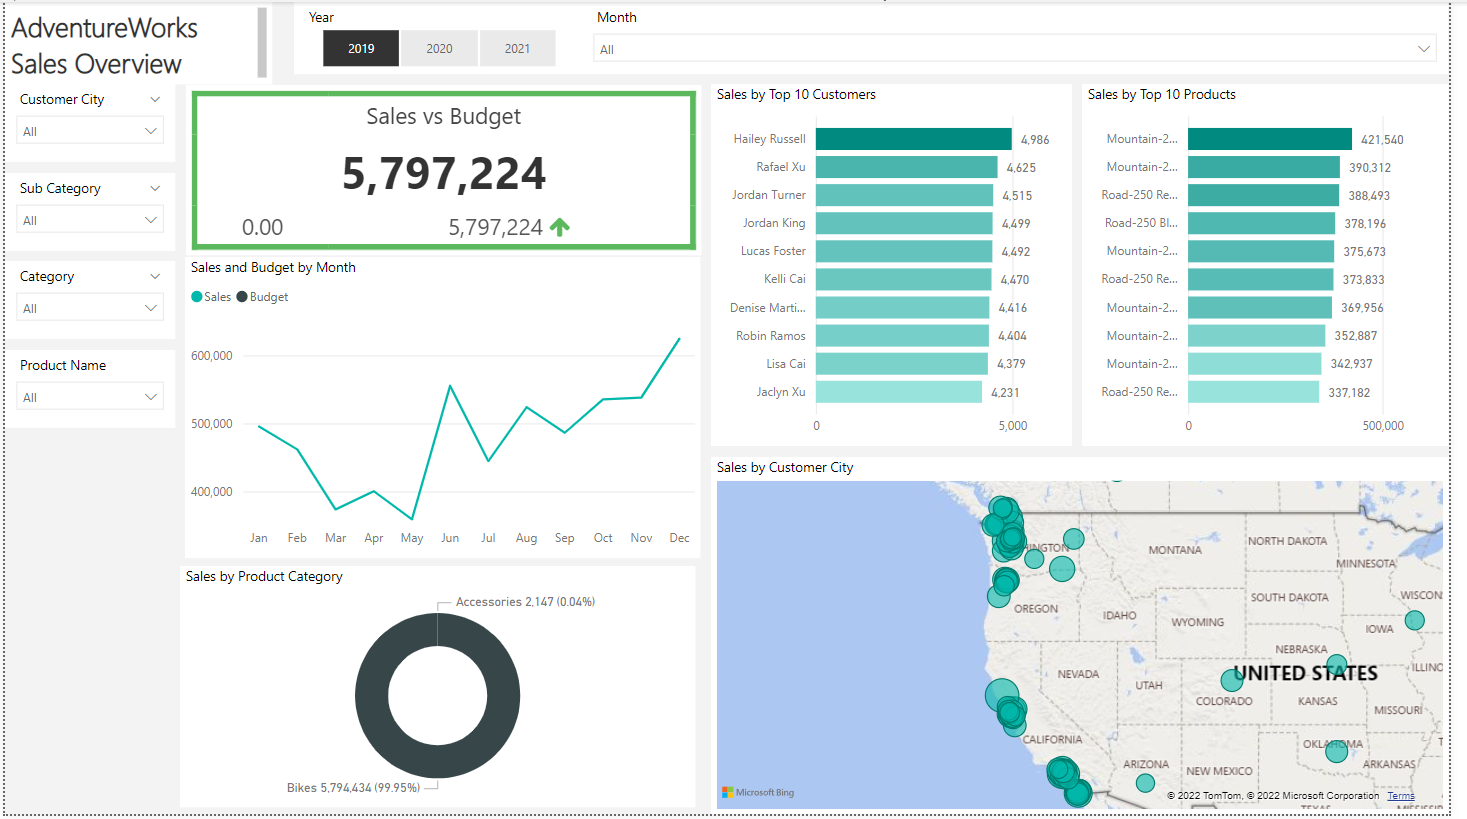

This screenshot's page, from the dashboard's own definition file:
{"tool":"powerbi","page":{"name":"Sales Overview","canvas":[1280,720],"ordinal":0},"visuals":[{"type":"textbox","box":[0,0,236.7,72.7],"z":0},{"type":"slicer","fields":{"Values":["DIM_Calendar.Year"]},"box":[256,0,256,64],"z":1000},{"type":"slicer","fields":{"Values":["DIM_Calendar.MonthShort"]},"box":[512,0,768,64],"z":2000},{"type":"slicer","fields":{"Values":["DIM_Customers.Customer City"]},"box":[0,73,150.5,69.3],"z":3000},{"type":"slicer","fields":{"Values":["DIM_Products.Product Category"]},"box":[0,229.9,150.5,69.3],"z":4000},{"type":"slicer","fields":{"Values":["DIM_Products.Product Name"]},"box":[0,308.4,150.5,69.3],"z":5000},{"type":"slicer","fields":{"Values":["DIM_Products.Sub Category"]},"box":[0,151.4,150.5,69.3],"z":6000},{"type":"barChart","title":"Sales by Top 10 Products","fields":{"Category":["DIM_Products.Product Name"],"Y":["Analysis Metrics.Sales"]},"box":[955.2,73,324.8,321.1],"z":7000},{"type":"lineChart","fields":{"Category":["DIM_Calendar.MonthShort"],"Y":["Analysis Metrics.Sales","Analysis Metrics.Budget"]},"box":[159.6,226.1,456.7,266.9],"z":8000},{"type":"barChart","title":"Sales by Top 10 Customers","fields":{"Category":["DIM_Customers.Full Name"],"Y":["Analysis Metrics.Sales"]},"box":[625.9,73,320.2,321.1],"z":9000},{"type":"donutChart","fields":{"Y":["Analysis Metrics.Sales"],"Series":["DIM_Products.Product Category"]},"box":[155.2,500.1,456.7,213.7],"z":10000},{"type":"map","fields":{"Category":["DIM_Customers.Customer City"],"Size":["Analysis Metrics.Sales"]},"box":[626,403.4,654.4,316.6],"z":12000},{"type":"BBED0A4D4D8D44CE93CF2DAFADEE466C","fields":{"actual":["Analysis Metrics.Sales"],"target2":["Analysis Metrics.Sales / Budget"],"target1":["Analysis Metrics.Budget"]},"box":[160.5,73.4,456.6,151.3],"z":13001}]}

Visuals, with their boxes in screenshot pixels (x1, y1, x2, y2), scaled from the page's 1280x720 canvas onto the 1467x819 screenshot:
textbox: box=[0, 0, 271, 83]
slicer - DIM_Calendar.Year: box=[293, 0, 587, 73]
slicer - DIM_Calendar.MonthShort: box=[587, 0, 1466, 73]
slicer - DIM_Customers.Customer City: box=[0, 83, 172, 162]
slicer - DIM_Products.Product Category: box=[0, 262, 172, 340]
slicer - DIM_Products.Product Name: box=[0, 351, 172, 430]
slicer - DIM_Products.Sub Category: box=[0, 172, 172, 251]
"Sales by Top 10 Products" barChart: box=[1095, 83, 1466, 448]
lineChart - DIM_Calendar.MonthShort x Analysis Metrics.Sales: box=[183, 257, 706, 561]
"Sales by Top 10 Customers" barChart: box=[717, 83, 1084, 448]
donutChart - Analysis Metrics.Sales x DIM_Products.Product Category: box=[178, 569, 701, 812]
map - DIM_Customers.Customer City x Analysis Metrics.Sales: box=[717, 459, 1466, 818]
BBED0A4D4D8D44CE93CF2DAFADEE466C - Analysis Metrics.Sales x Analysis Metrics.Sales / Budget: box=[184, 83, 707, 256]
